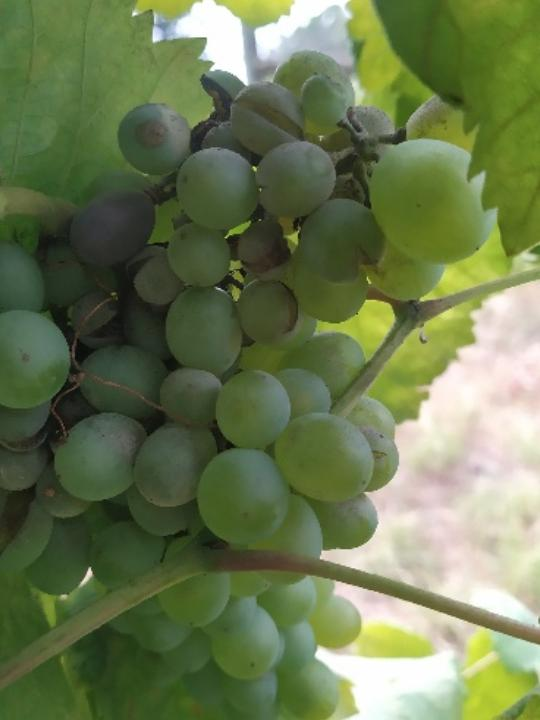grape: (0, 43, 503, 551)
